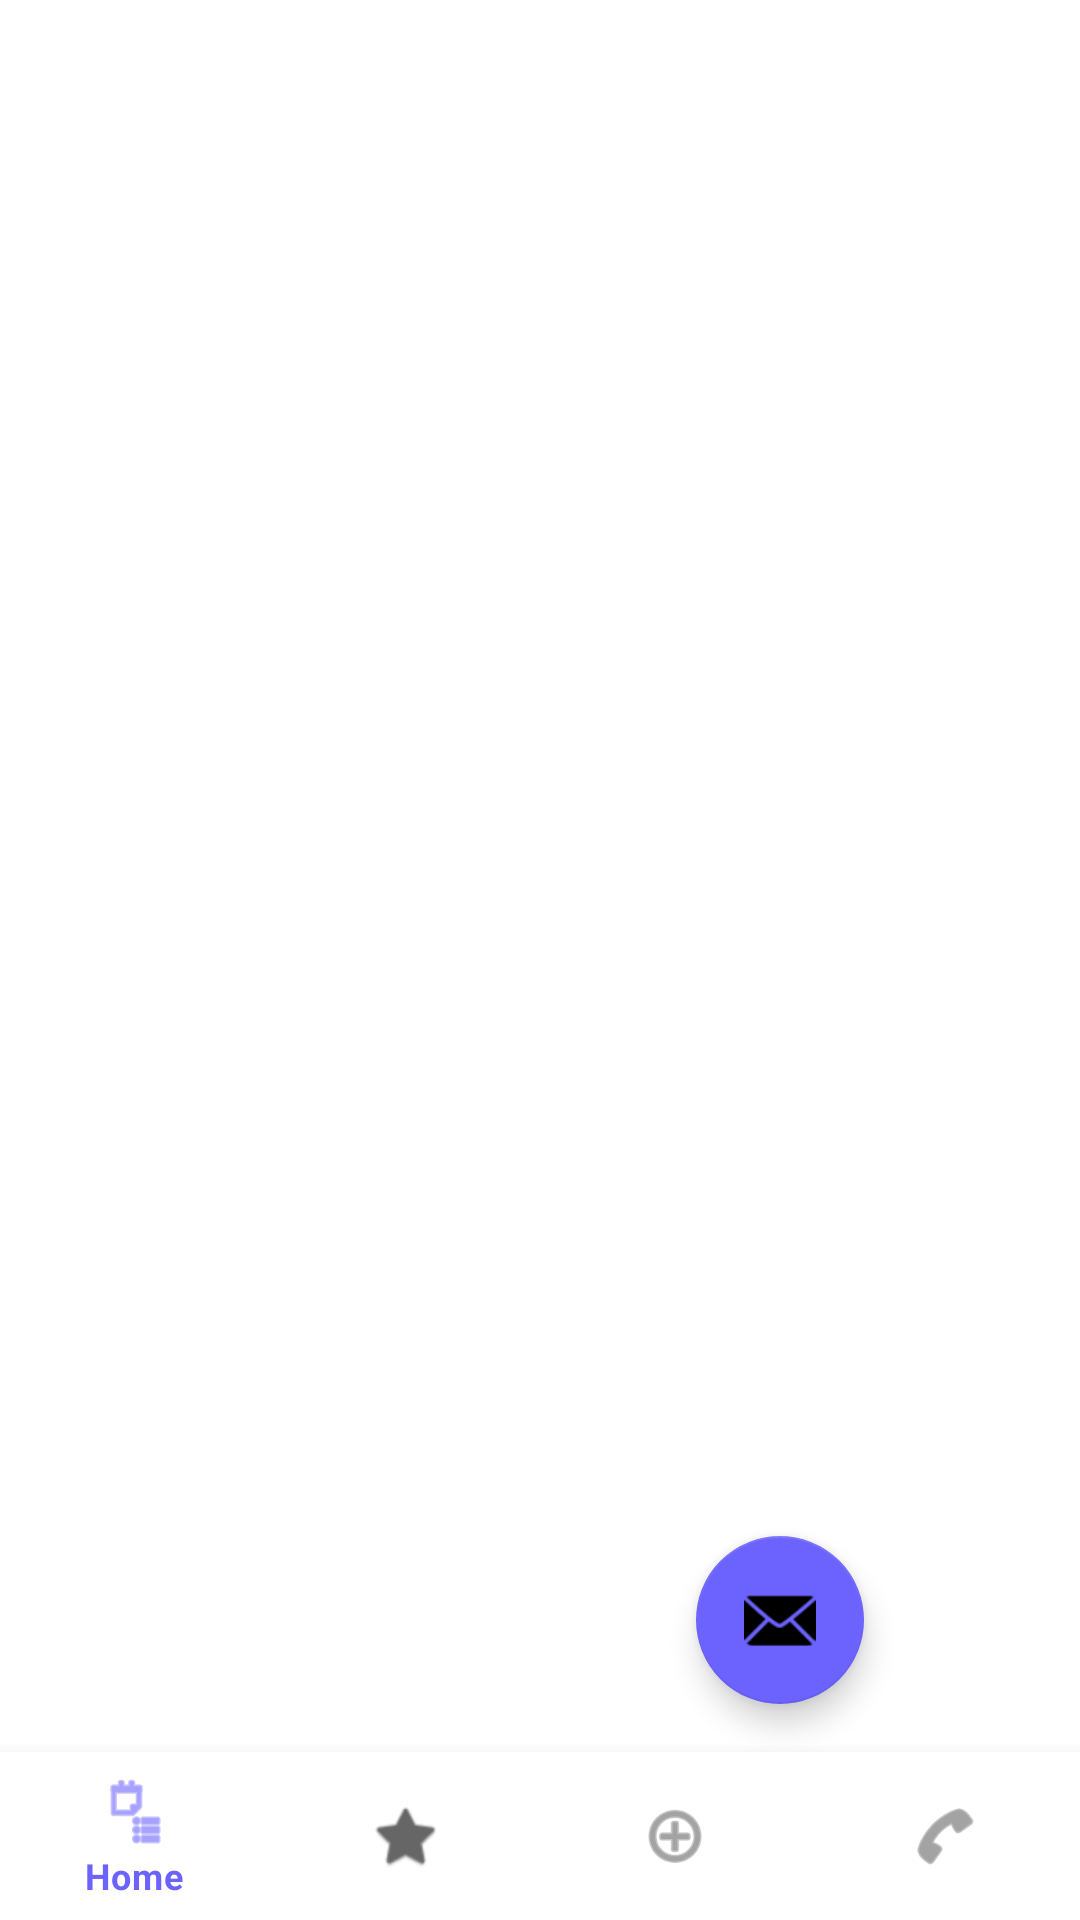

Icon click points for this 1080px x 1920px phone screenshot, format point (x, y):
email: point (780, 1620)
